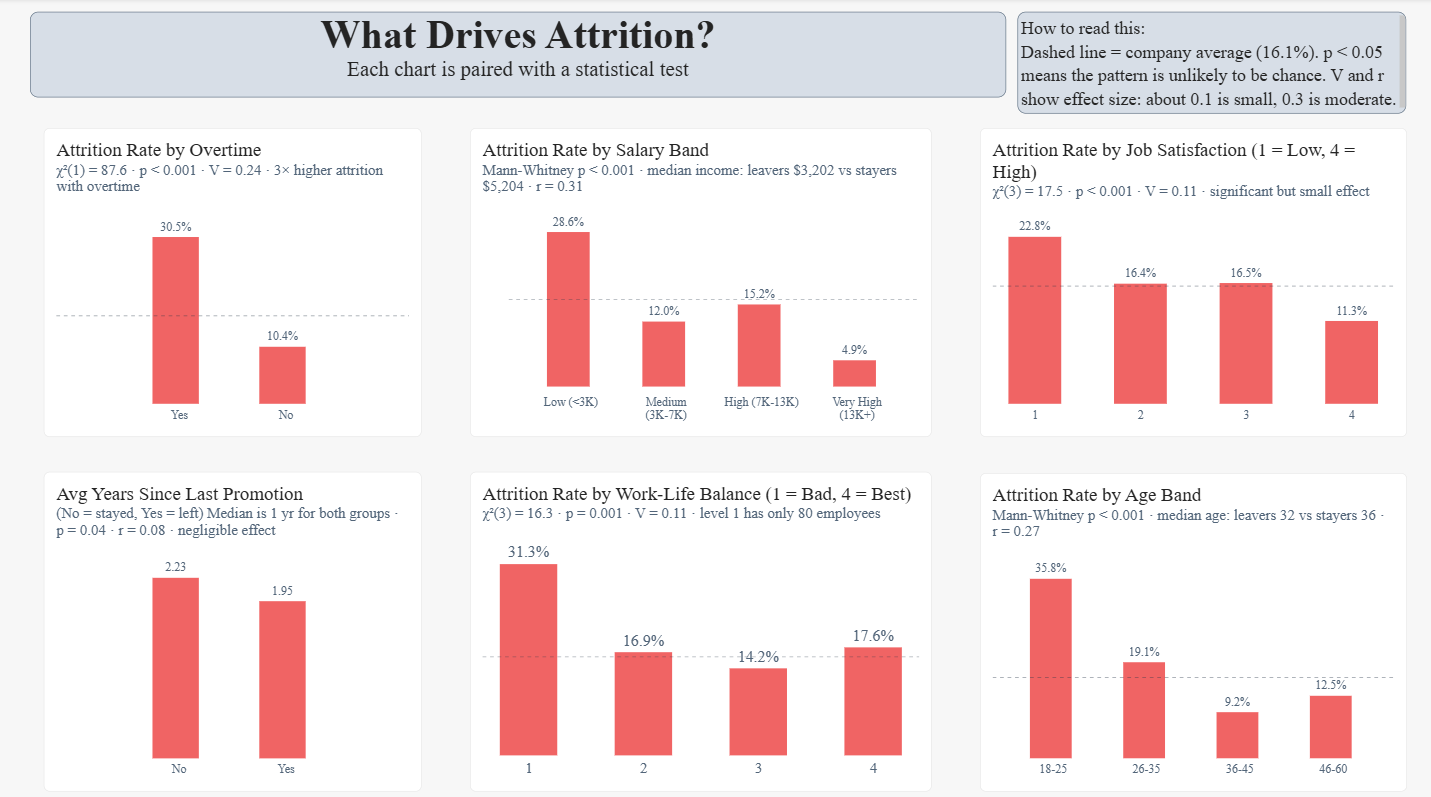

The page's visual inventory and layout, read from the dashboard file:
{"tool":"powerbi","page":{"name":"Attrition Drivers","canvas":[1920,1080],"ordinal":1},"visuals":[{"type":"textbox","box":[40,18,1304,114],"z":0},{"type":"clusteredColumnChart","title":"Attrition Rate by Age Band","fields":{"Category":["DimAgeBand.AgeBand"],"Y":["EmployeeFact.Attrition Rate"]},"box":[1308.4,635.2,570,425.3],"z":1000},{"type":"clusteredColumnChart","title":"Attrition Rate by Salary Band","fields":{"Category":["DimSalaryBand.SalaryBand"],"Y":["EmployeeFact.Attrition Rate"]},"box":[628,173.7,617.1,412.6],"z":2000},{"type":"clusteredColumnChart","title":"\tAttrition Rate by Work-Life Balance (1 = Bad, 4 = Best)","fields":{"Category":["EmployeeFact.WorkLifeBalance"],"Y":["EmployeeFact.Attrition Rate"]},"box":[628,633.4,617.1,427.1],"z":3000},{"type":"clusteredColumnChart","title":"Attrition Rate by Job Satisfaction (1 = Low, 4 = High)","fields":{"Category":["EmployeeFact.JobSatisfaction"],"Y":["EmployeeFact.Attrition Rate"]},"box":[1308.4,173.7,570,412.6],"z":4000},{"type":"clusteredColumnChart","title":"Attrition Rate by Overtime","fields":{"Category":["EmployeeFact.OverTime"],"Y":["EmployeeFact.Attrition Rate"]},"box":[57.9,173.7,504.9,412.6],"z":5000},{"type":"clusteredColumnChart","title":"Avg Years Since Last Promotion","fields":{"Category":["EmployeeFact.Attrition"],"Y":["EmployeeFact.Avg Years Since Promotion"]},"box":[57.9,633.4,504.9,427.1],"z":6000},{"type":"textbox","box":[1359.1,18.1,519.4,135.7],"z":7000}]}

Visuals, with their boxes in screenshot pixels (x1, y1, x2, y2), scaled from the page's 1920x1080 canvas onto the 1431x797 screenshot:
textbox: 30,13,1002,97
"Attrition Rate by Age Band" clusteredColumnChart: 975,469,1400,783
"Attrition Rate by Salary Band" clusteredColumnChart: 468,128,928,433
"	Attrition Rate by Work-Life Balance (1 = Bad, 4 = Best)" clusteredColumnChart: 468,467,928,783
"Attrition Rate by Job Satisfaction (1 = Low, 4 = High)" clusteredColumnChart: 975,128,1400,433
"Attrition Rate by Overtime" clusteredColumnChart: 43,128,419,433
"Avg Years Since Last Promotion" clusteredColumnChart: 43,467,419,783
textbox: 1013,13,1400,113
